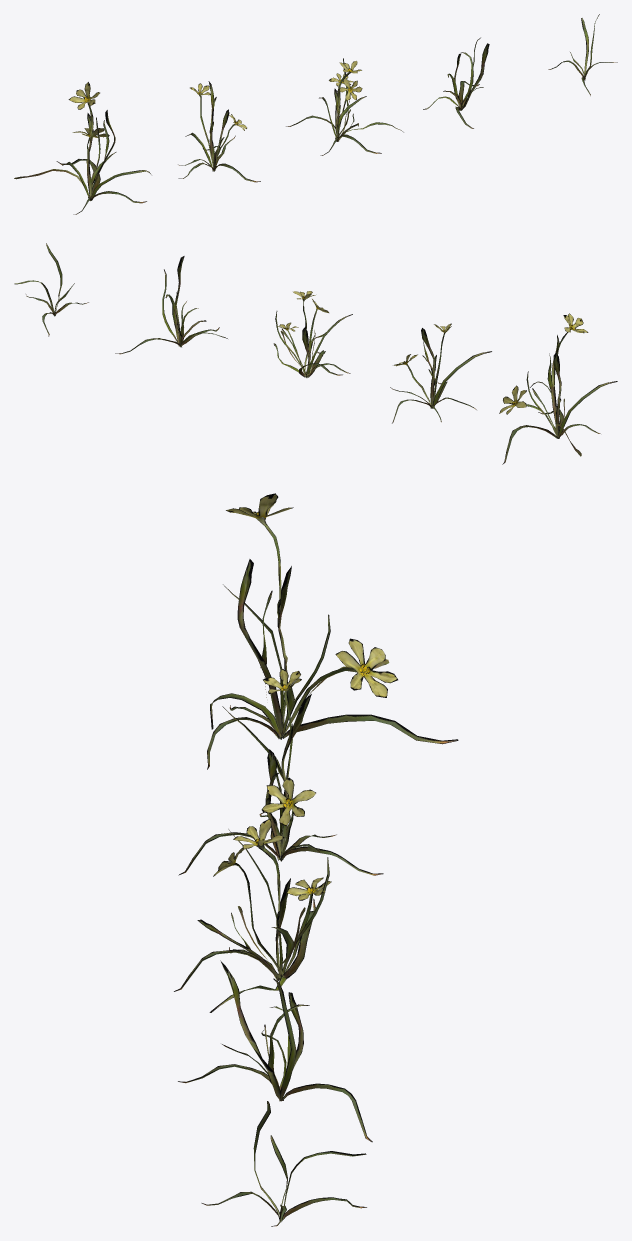
File: flower_empodium.glb
3 views of the same model, one above another, from view 1: azimuth 30°, elevation 25°; view 2: azimuth 150°, elevation 25°; view 3: azimuth 270°, elevation 25° (orthographic). The views are drawn at different scales.
Visible parts, largest first — view 1: flower_empodium_a_LOD0, flower_empodium_c_LOD0, flower_empodium_b_LOD0, flower_empodium_d_LOD0, flower_empodium_e_LOD0; view 2: flower_empodium_a_LOD0, flower_empodium_c_LOD0, flower_empodium_b_LOD0, flower_empodium_d_LOD0, flower_empodium_e_LOD0; view 3: flower_empodium_a_LOD0, flower_empodium_c_LOD0, flower_empodium_b_LOD0, flower_empodium_d_LOD0, flower_empodium_e_LOD0.
Part boxes in pixels (x1=…): flower_empodium_a_LOD0: x1=14, y1=82, x2=151, y2=214; flower_empodium_c_LOD0: x1=286, y1=58, x2=403, y2=155; flower_empodium_b_LOD0: x1=178, y1=81, x2=260, y2=182; flower_empodium_d_LOD0: x1=423, y1=37, x2=489, y2=128; flower_empodium_e_LOD0: x1=548, y1=14, x2=617, y2=95; flower_empodium_a_LOD0: x1=499, y1=313, x2=617, y2=464; flower_empodium_c_LOD0: x1=273, y1=291, x2=352, y2=377; flower_empodium_b_LOD0: x1=390, y1=323, x2=491, y2=423; flower_empodium_d_LOD0: x1=115, y1=256, x2=227, y2=354; flower_empodium_e_LOD0: x1=14, y1=243, x2=88, y2=336; flower_empodium_a_LOD0: x1=207, y1=493, x2=458, y2=769; flower_empodium_c_LOD0: x1=174, y1=818, x2=331, y2=1012; flower_empodium_b_LOD0: x1=178, y1=668, x2=383, y2=875; flower_empodium_d_LOD0: x1=178, y1=960, x2=372, y2=1142; flower_empodium_e_LOD0: x1=201, y1=1101, x2=366, y2=1226.
Size of the model in its own units: 1.32 by 0.2684 by 0.2841.
1 material, 1 textured.
